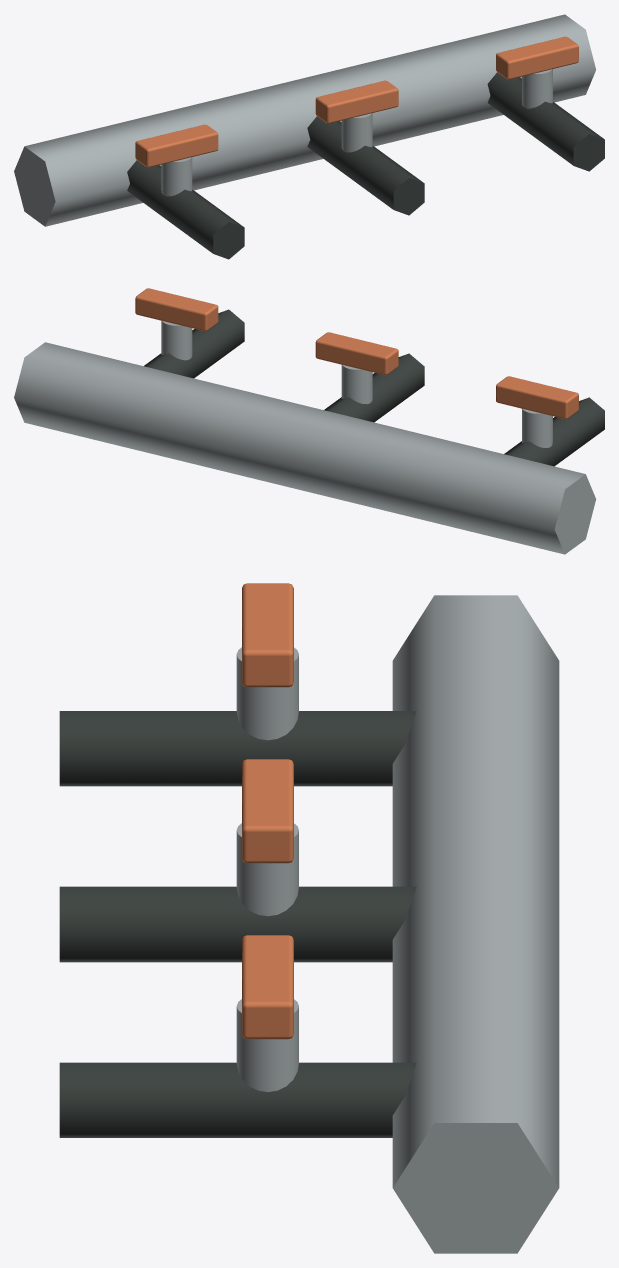
The model's file is survival-greenhouse-and-irrigation-irrigation-manifold-4593f0ca__21323.glb.
3 views of the same model, one above another, from view 1: azimuth 30°, elevation 25°; view 2: azimuth 150°, elevation 25°; view 3: azimuth 270°, elevation 25° (orthographic). The views are drawn at different scales.
Visible parts, largest first — view 1: irrigation-manifold; view 2: irrigation-manifold; view 3: irrigation-manifold.
Part boxes in pixels (bbox=[...]): irrigation-manifold: bbox=[14, 14, 604, 259]; irrigation-manifold: bbox=[14, 288, 604, 554]; irrigation-manifold: bbox=[59, 583, 559, 1253].
Bounding box in the file's own units: 0.6 × 0.1046 × 0.24.
